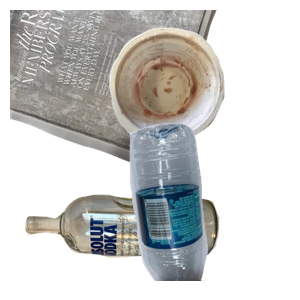glass: (22, 192, 234, 300)
paper: (10, 10, 222, 176)
plastic: (127, 120, 300, 300)
trash: (107, 25, 300, 162)
